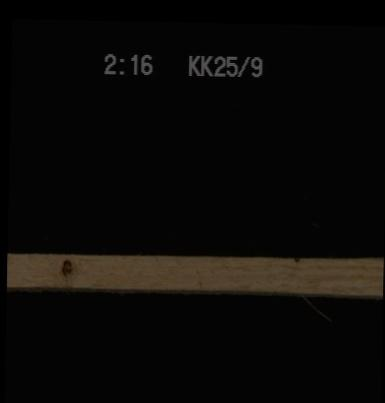dry_knot: (57, 255, 74, 278)
edge_knot: (288, 255, 305, 265)
